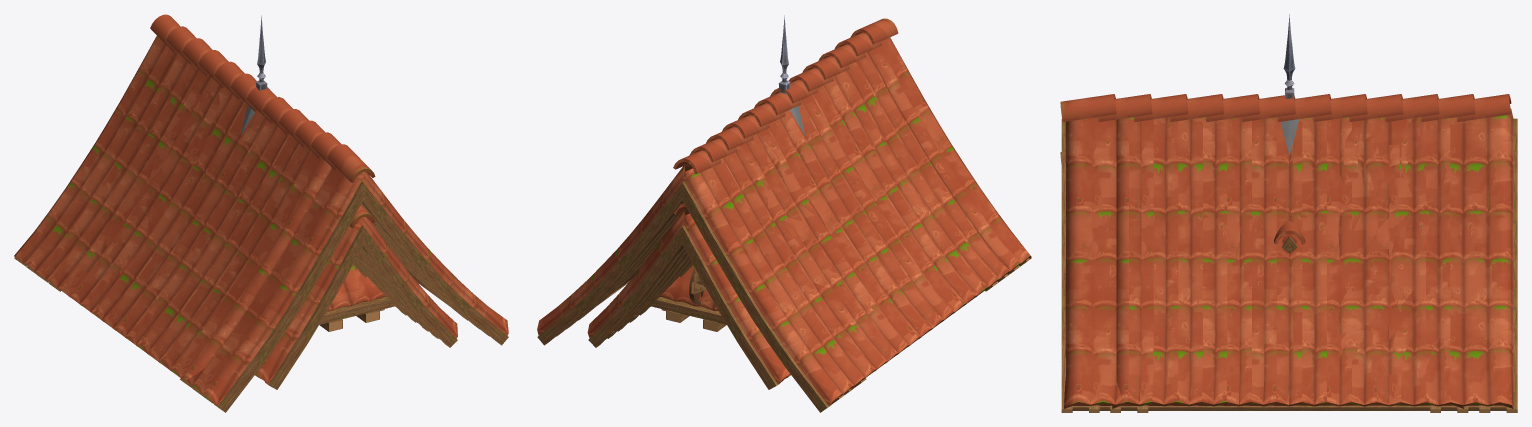
Rendered from village.glb.
The picture shows the model from 3 angles, left to right: view 1: azimuth 30°, elevation 25°; view 2: azimuth 150°, elevation 25°; view 3: azimuth 270°, elevation 25°; orthographic projection. The views are drawn at different scales.
Parts seen in each view (by area): view 1: Roof_RoundTiles_6x8, Roof_RoundTiles_6x6, Roof_RoundTiles_4x8, Roof_Tower_RoundTiles, Roof_RoundTiles_4x6; view 2: Roof_RoundTiles_6x8, Roof_RoundTiles_6x6, Roof_RoundTiles_4x8, Roof_Tower_RoundTiles, Roof_RoundTiles_4x6; view 3: Roof_RoundTiles_6x8, Roof_RoundTiles_6x6, Roof_Tower_RoundTiles, Roof_Dormer_RoundTile.
Part boxes in pixels (x1,y1,x2,y2): Roof_RoundTiles_6x8: (14,14,508,412); Roof_RoundTiles_6x6: (36,26,479,394); Roof_RoundTiles_4x8: (255,205,457,389); Roof_Tower_RoundTiles: (241,15,395,331); Roof_RoundTiles_4x6: (356,251,428,331); Roof_RoundTiles_6x8: (537,18,1031,412); Roof_RoundTiles_6x6: (566,36,1009,394); Roof_RoundTiles_4x8: (587,203,790,389); Roof_Tower_RoundTiles: (650,15,805,331); Roof_RoundTiles_4x6: (617,251,689,331); Roof_RoundTiles_6x8: (1060,94,1517,412); Roof_RoundTiles_6x6: (1110,94,1475,412); Roof_Tower_RoundTiles: (1280,14,1299,155); Roof_Dormer_RoundTile: (1274,221,1305,252).
Size of the model in its own units: 8.25 by 8.91 by 9.68.
Materials: 9 (8 with a texture image).
